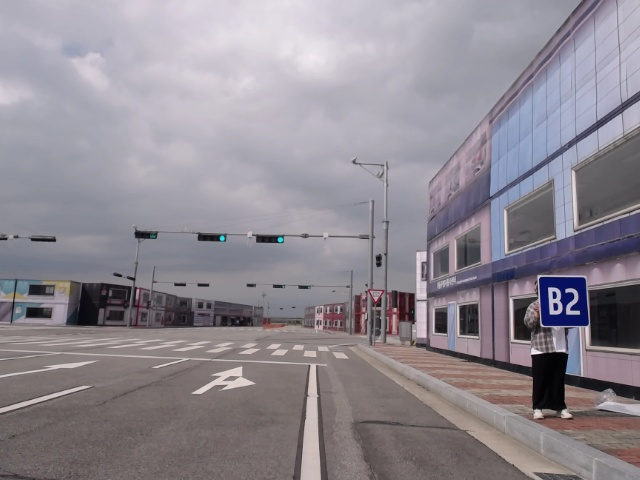delivery_b2: (536, 273, 594, 329)
straight_green_4: (254, 233, 288, 244), (196, 231, 227, 243), (271, 283, 288, 290), (297, 283, 313, 290)
